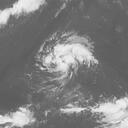cyclone: (39, 32, 97, 78)
